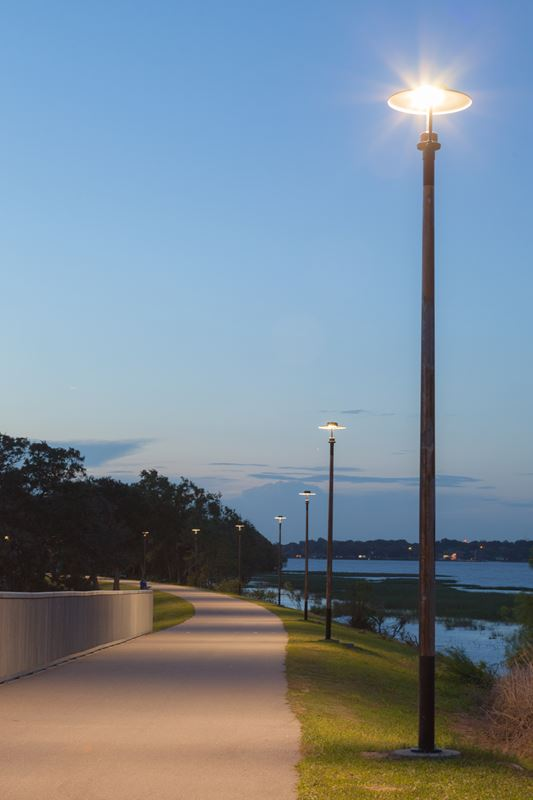light_pole: (396, 71, 460, 773), (322, 417, 348, 642)
